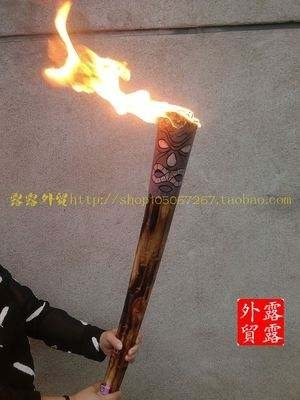fire: (43, 0, 196, 125)
